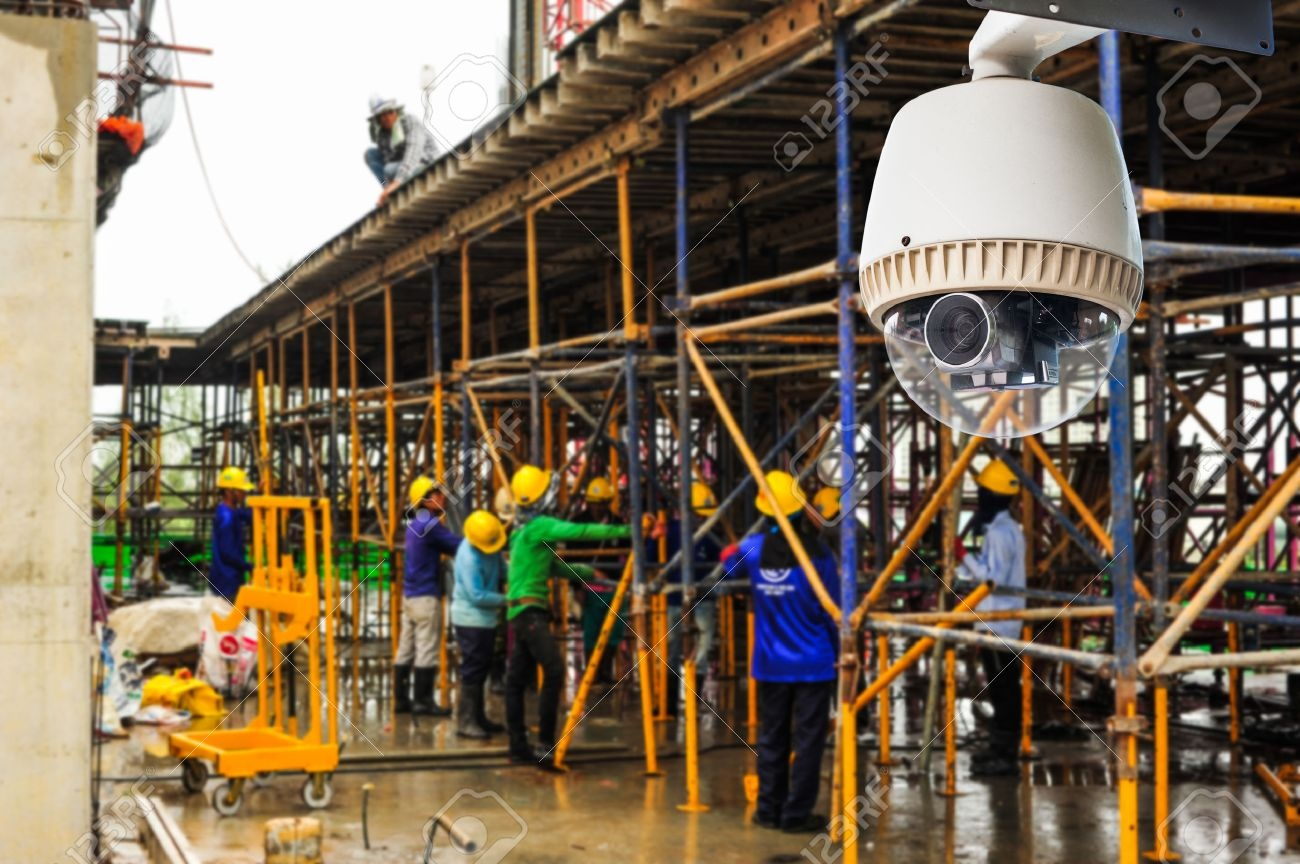white: (364, 86, 400, 126)
yellow: (751, 469, 810, 534), (974, 457, 1022, 516), (509, 460, 559, 514), (457, 506, 508, 558), (677, 481, 719, 528), (403, 472, 445, 517), (210, 462, 251, 507), (582, 476, 615, 519)
